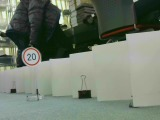speed_20: (21, 46, 42, 67)
